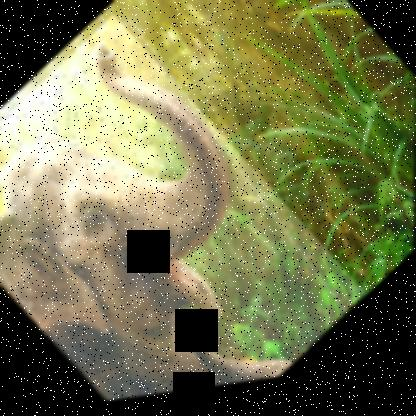Elephas-maximus: (0, 0, 369, 415)
